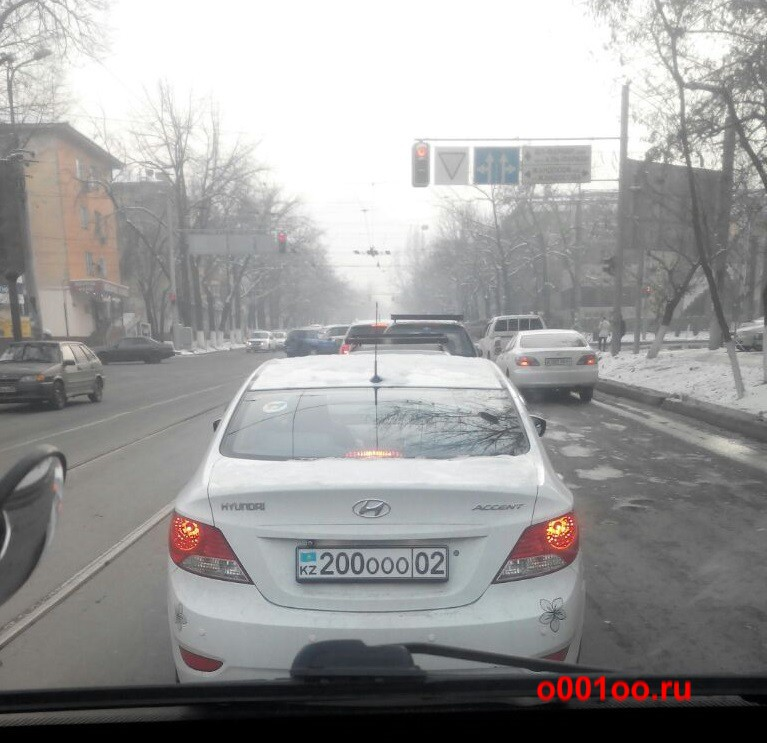license_plate: (297, 547, 449, 580)
